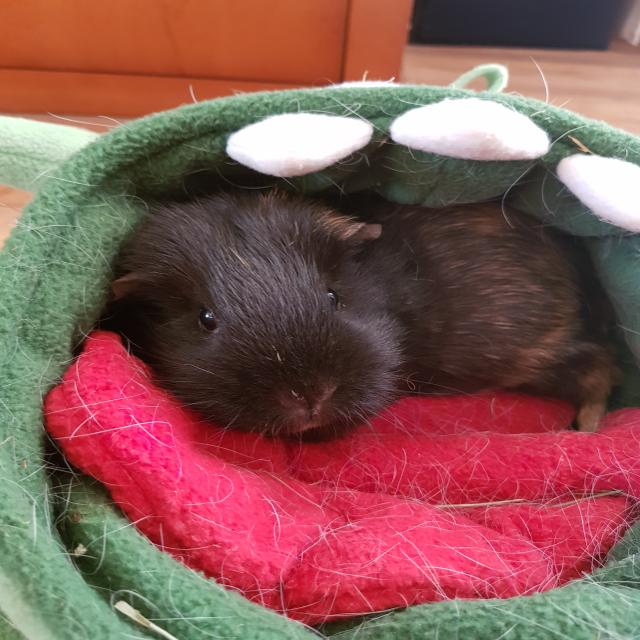guinea pig: (100, 184, 626, 453)
